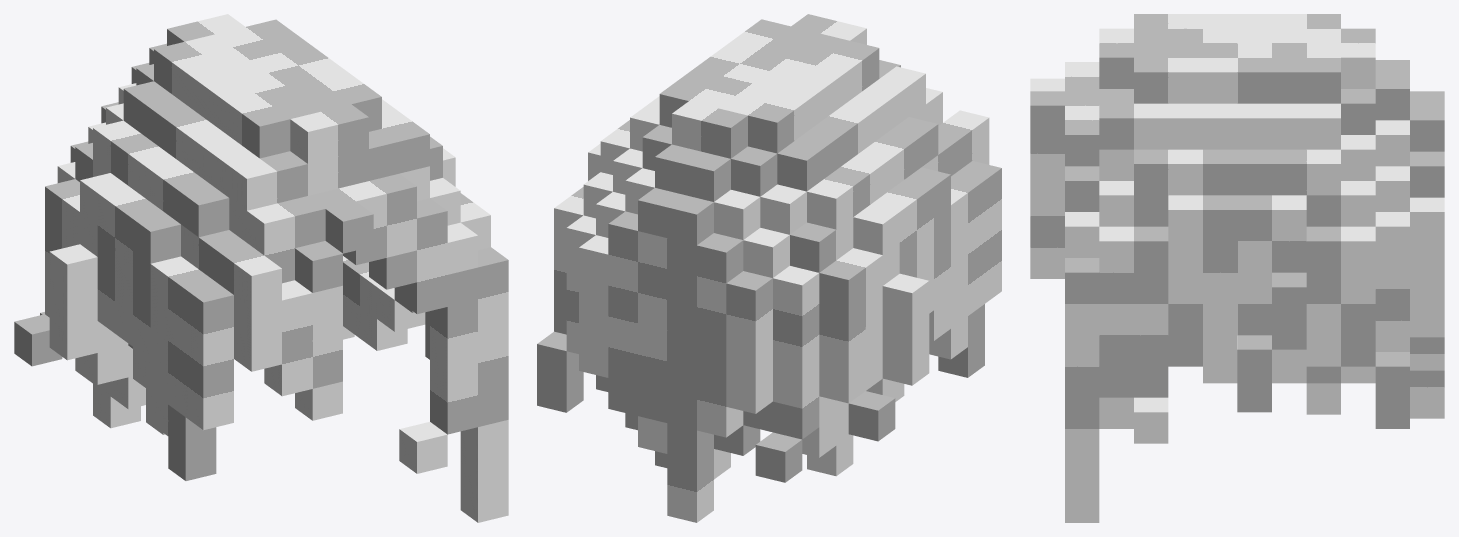
File: wlos6.dae
3 renders of one model, left to right at view 1: azimuth 30°, elevation 25°; view 2: azimuth 150°, elevation 25°; view 3: azimuth 270°, elevation 25°, orthographic. The views are drawn at different scales.
Visible parts, largest first — view 1: Content; view 2: Content; view 3: Content.
Boxes of the visible parts, x1=… form: Content: x1=14, y1=14, x2=508, y2=522; Content: x1=537, y1=14, x2=1001, y2=522; Content: x1=1030, y1=14, x2=1444, y2=522.
Size of the model in its own units: 12 by 13 by 12.
Materials: 1 (1 with a texture image).
